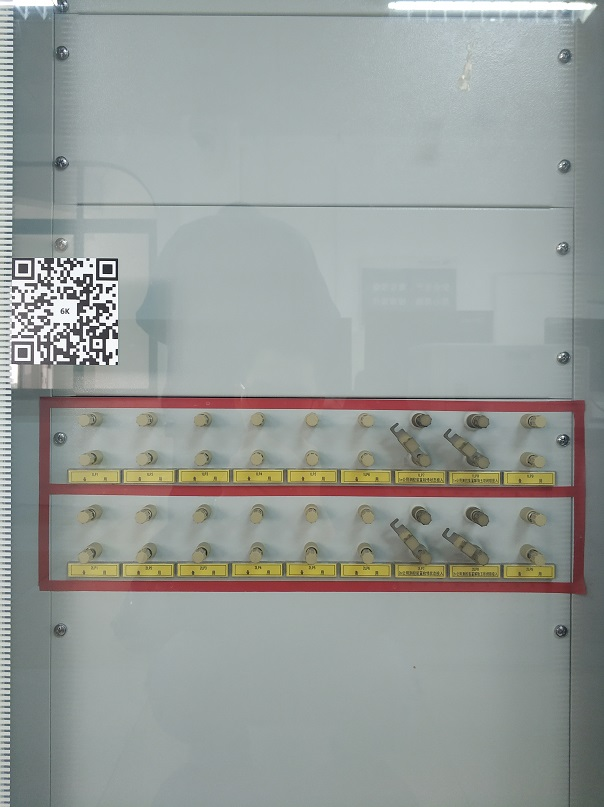ybempty: (75, 412, 105, 472), (131, 503, 159, 566)
ybopen: (387, 499, 437, 565), (441, 413, 494, 471)
